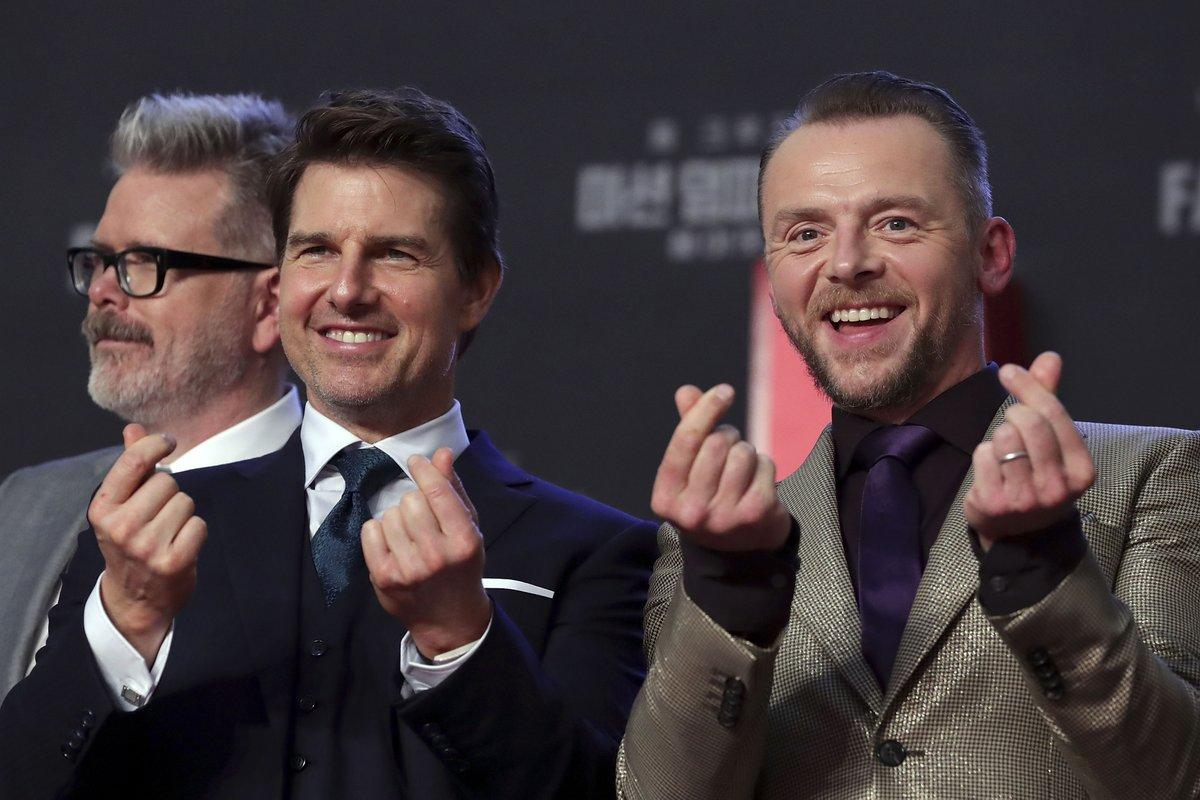heart gesture: (995, 349, 1064, 403), (671, 380, 739, 428), (120, 419, 180, 469), (404, 443, 458, 490)
